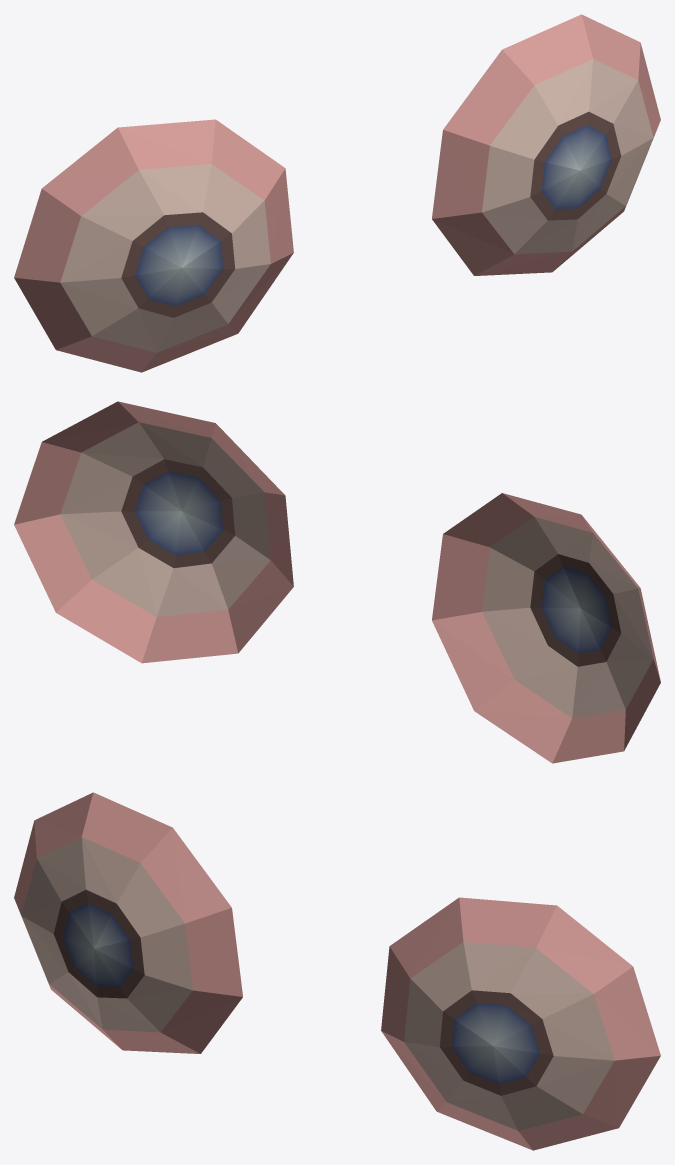
Rendered from eyesBlindFemale.glb.
3 renders of one model, top to bottom at view 1: azimuth 30°, elevation 25°; view 2: azimuth 150°, elevation 25°; view 3: azimuth 330°, elevation 25°, orthographic.
Visible parts, largest first — view 1: eyesBlindFemale; view 2: eyesBlindFemale; view 3: eyesBlindFemale.
Part boxes in pixels (box(x1,y1,x2,y2)): eyesBlindFemale: box(14, 14, 660, 372); eyesBlindFemale: box(14, 401, 660, 763); eyesBlindFemale: box(14, 792, 660, 1150).
Bounding box in the file's own units: 0.1266 × 0.0474 × 0.0155.
